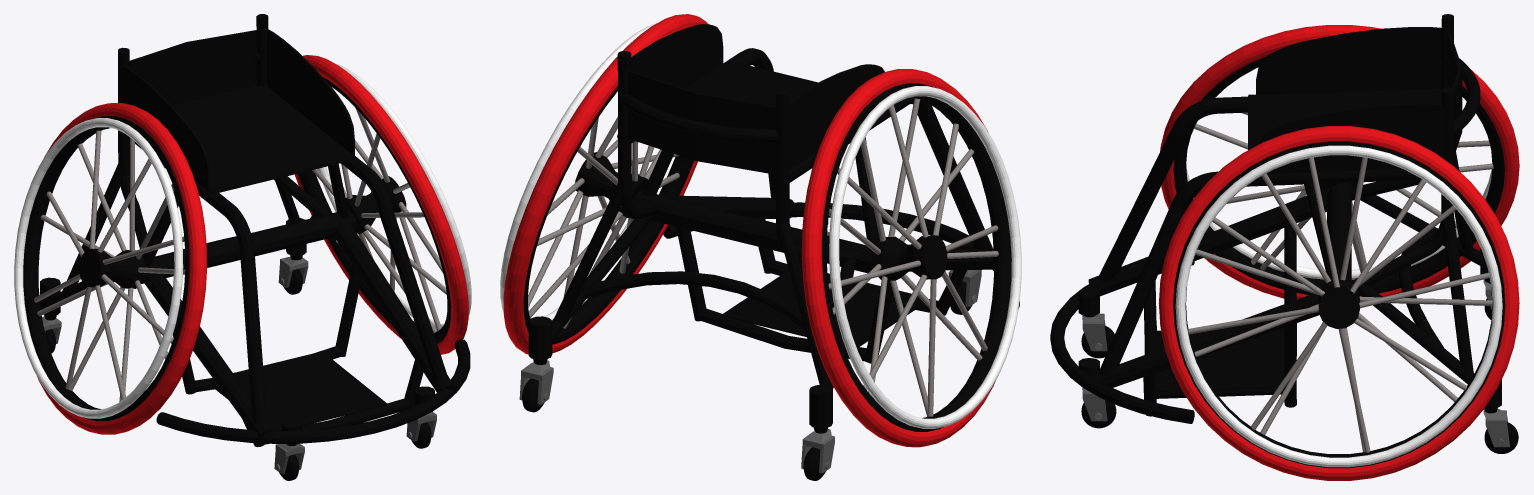
The model's file is wheelchair.glb.
The picture shows the model from 3 angles, left to right: view 1: azimuth 30°, elevation 25°; view 2: azimuth 150°, elevation 25°; view 3: azimuth 270°, elevation 25°; orthographic projection. The views are drawn at different scales.
Parts seen in each view (by area): view 1: Frame, LeftWheel, RightWheel, R_Front_Wheel, R_Rear_Wheel; view 2: Frame, LeftWheel, RightWheel, R_Rear_Wheel, R_Front_Wheel; view 3: Frame, RightWheel, LeftWheel, R_Front_Wheel, R_Rear_Wheel.
Part boxes in pixels (left/top/right/bottom): Frame: left=40, top=14, right=470, bottom=447; LeftWheel: left=14, top=103, right=206, bottom=434; RightWheel: left=294, top=55, right=471, bottom=354; R_Front_Wheel: left=274, top=411, right=436, bottom=480; R_Rear_Wheel: left=42, top=256, right=308, bottom=353; Frame: left=528, top=24, right=1019, bottom=433; LeftWheel: left=801, top=69, right=1021, bottom=447; RightWheel: left=500, top=14, right=708, bottom=354; R_Rear_Wheel: left=519, top=360, right=834, bottom=480; R_Front_Wheel: left=799, top=231, right=981, bottom=314; Frame: left=1050, top=14, right=1501, bottom=423; RightWheel: left=1158, top=126, right=1519, bottom=480; LeftWheel: left=1160, top=25, right=1519, bottom=299; R_Front_Wheel: left=1081, top=313, right=1116, bottom=428; R_Rear_Wheel: left=1483, top=279, right=1518, bottom=453.
Bounding box in the file's own units: 0.8658 × 0.7143 × 0.8963.
